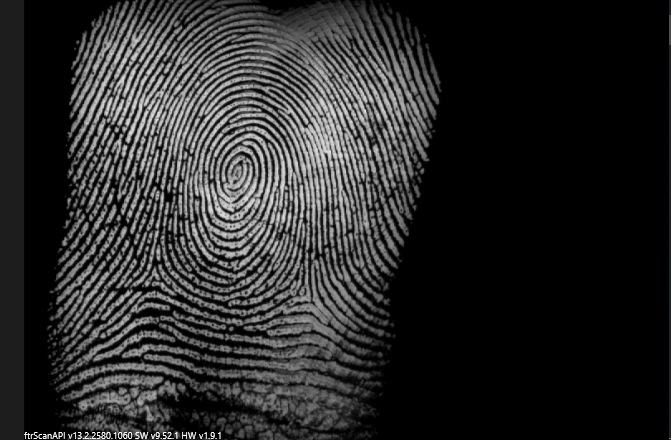nucelo: (222, 147, 249, 190)
verticilo: (290, 279, 328, 320), (140, 256, 169, 285)
